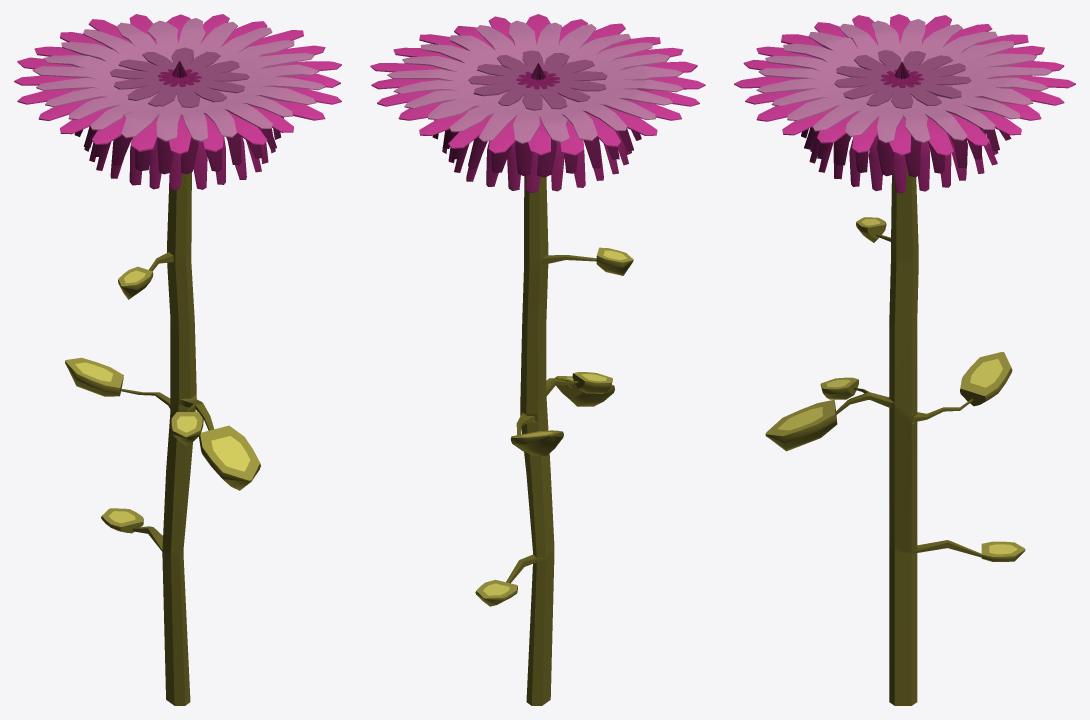
File: Planta Aberta_16H.fbx
3 views of the same model, side by side, from view 1: azimuth 30°, elevation 25°; view 2: azimuth 150°, elevation 25°; view 3: azimuth 270°, elevation 25° (orthographic).
Parts seen in each view (by area): view 1: pCylinder2, pCube4, pCylinder1, pCylinder3, pCylinder6, pCylinder5, pCube5, pCube8, pCube6, pCube7, pCube2; view 2: pCylinder2, pCube4, pCylinder1, pCylinder3, pCylinder6, pCylinder5, pCube8, pCube5, pCube7, pCube2, pCube6; view 3: pCylinder2, pCube4, pCylinder1, pCylinder3, pCylinder6, pCylinder5, pCube5, pCube8, pCube7, pCube6, pCube2.
Boxes of the visible parts, x1,y1,x2,y2 form: pCylinder2: (32, 18, 325, 141); pCube4: (120, 172, 213, 705); pCylinder1: (14, 14, 341, 154); pCylinder3: (110, 47, 249, 107); pCylinder6: (84, 127, 275, 190); pCylinder5: (74, 116, 283, 174); pCube5: (198, 425, 260, 490); pCube8: (65, 357, 123, 396); pCube6: (170, 411, 203, 445); pCube7: (101, 508, 143, 533); pCube2: (118, 266, 153, 299); pCylinder2: (387, 20, 683, 143); pCube4: (506, 175, 596, 705); pCylinder1: (370, 14, 705, 155); pCylinder3: (468, 50, 607, 110); pCylinder6: (442, 130, 631, 193); pCylinder5: (432, 119, 641, 177); pCube8: (510, 430, 563, 456); pCube5: (555, 376, 614, 406); pCube7: (475, 579, 517, 606); pCube2: (596, 247, 633, 275); pCube6: (572, 372, 612, 393); pCylinder2: (756, 19, 1052, 143); pCube4: (835, 166, 981, 705); pCylinder1: (734, 14, 1075, 155); pCylinder3: (834, 50, 971, 108); pCylinder6: (809, 129, 998, 193); pCylinder5: (801, 116, 1011, 177); pCube5: (765, 399, 837, 451); pCube8: (960, 352, 1012, 406); pCube7: (981, 541, 1025, 561); pCube6: (820, 377, 858, 399); pCube2: (856, 217, 886, 242).
Size of the model in its own units: 782 by 1655 by 801.
